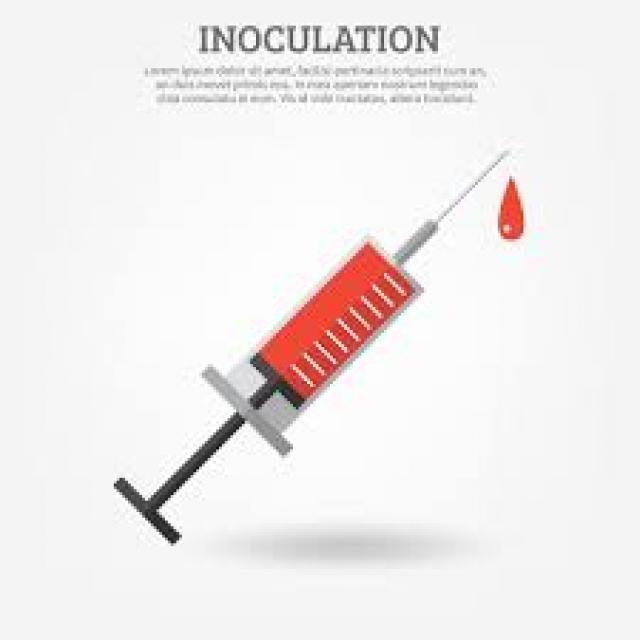syringe: (115, 149, 563, 574)
